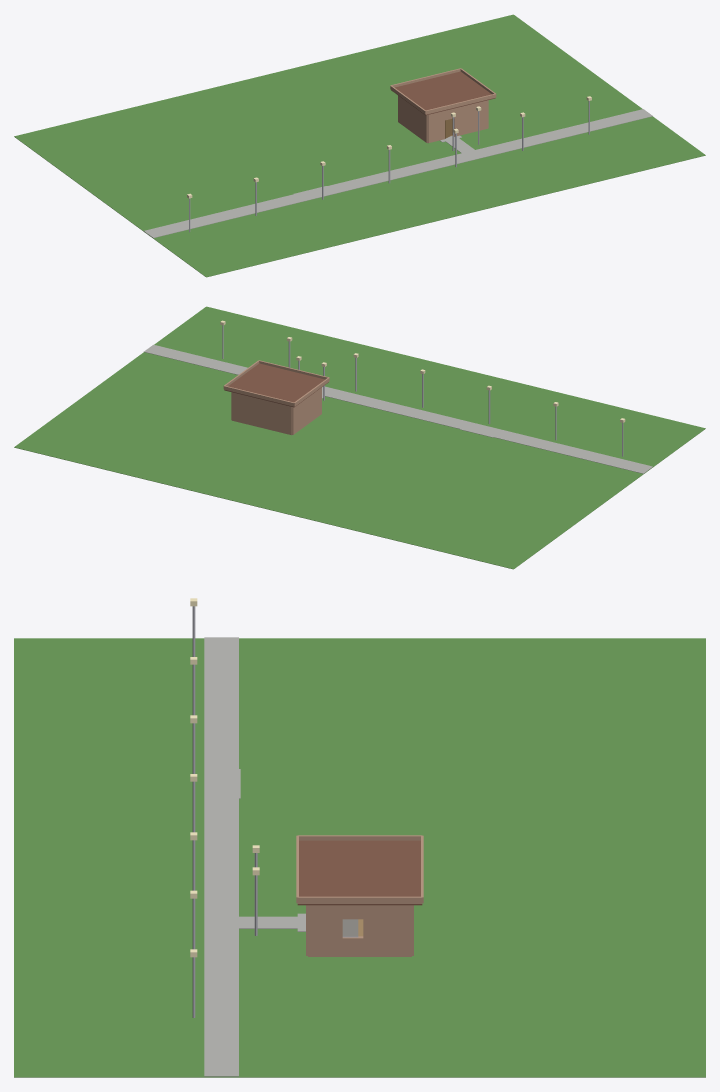
File: Hausmeisterhaus.fbx
3 renders of one model, top to bottom at view 1: azimuth 30°, elevation 25°; view 2: azimuth 150°, elevation 25°; view 3: azimuth 270°, elevation 25°, orthographic. The views are drawn at different scales.
Visible parts, largest first — view 1: Rasen, Weg_Haupt, HM_Dach, HM_Front_R, HM_Left, HM_Front_L; view 2: Rasen, Weg_Haupt, HM_Dach, HM_Back, HM_Left; view 3: Rasen, Weg_Haupt, HM_Dach, HM_Right_Bot, HM_Right_Top, HM_Attika_R, HM_Right_R, HM_Attika_L.
Boxes of the visible parts, x1=… form: Rasen: x1=14, y1=14, x2=705, y2=277; Weg_Haupt: x1=144, y1=109, x2=652, y2=238; HM_Dach: x1=391, y1=71, x2=495, y2=115; HM_Front_R: x1=454, y1=100, x2=488, y2=136; HM_Left: x1=398, y1=95, x2=427, y2=142; HM_Front_L: x1=427, y1=111, x2=444, y2=143; Rasen: x1=14, y1=306, x2=705, y2=569; Weg_Haupt: x1=144, y1=344, x2=652, y2=473; HM_Dach: x1=224, y1=363, x2=328, y2=407; HM_Back: x1=231, y1=392, x2=292, y2=435; HM_Left: x1=292, y1=387, x2=321, y2=434; Rasen: x1=14, y1=638, x2=705, y2=1077; Weg_Haupt: x1=204, y1=637, x2=238, y2=1076; HM_Dach: x1=297, y1=840, x2=422, y2=905; HM_Right_Bot: x1=308, y1=936, x2=411, y2=956; HM_Right_Top: x1=308, y1=905, x2=411, y2=919; HM_Attika_R: x1=297, y1=896, x2=422, y2=903; HM_Right_R: x1=363, y1=919, x2=411, y2=938; HM_Attika_L: x1=297, y1=835, x2=421, y2=840.
Bounding box in the file's own units: 3000 × 218 × 2000.
